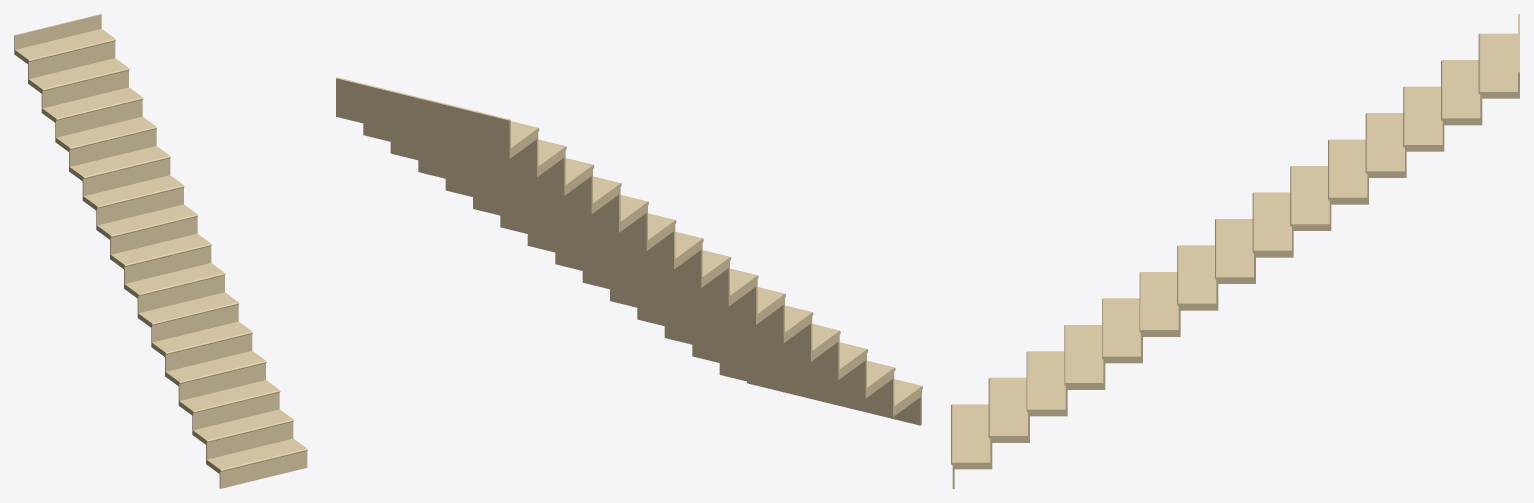
The model's file is stairflight-stair-residential-200mm-max-riser-25.glb.
3 views of the same model, side by side, from view 1: azimuth 30°, elevation 25°; view 2: azimuth 150°, elevation 25°; view 3: azimuth 270°, elevation 25° (orthographic). The views are drawn at different scales.
Visible parts, largest first — view 1: 1oKjKg9PD3fP1iIwXLh3lK; view 2: 1oKjKg9PD3fP1iIwXLh3lK; view 3: 1oKjKg9PD3fP1iIwXLh3lK.
Part boxes in pixels (x1,y1,x2,y2): 1oKjKg9PD3fP1iIwXLh3lK: [14, 14, 307, 488]; 1oKjKg9PD3fP1iIwXLh3lK: [336, 77, 922, 425]; 1oKjKg9PD3fP1iIwXLh3lK: [951, 14, 1519, 488].
Size of the model in its own units: 0.9144 by 3.05 by 3.77.
